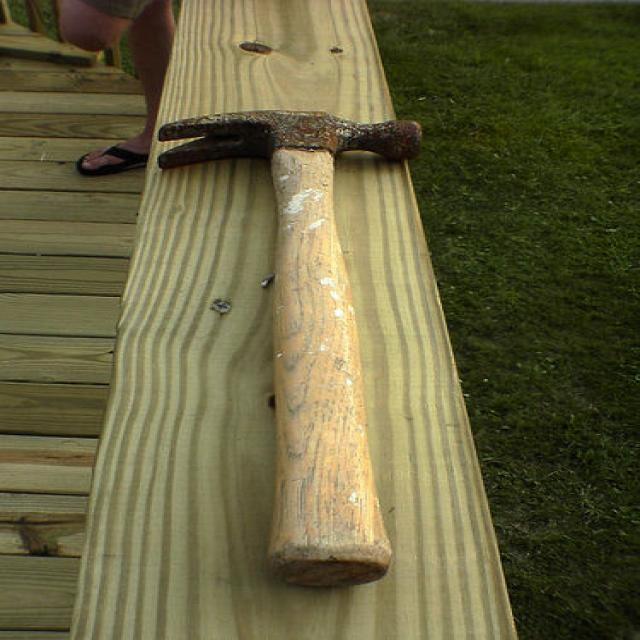hammer: (140, 104, 446, 589)
